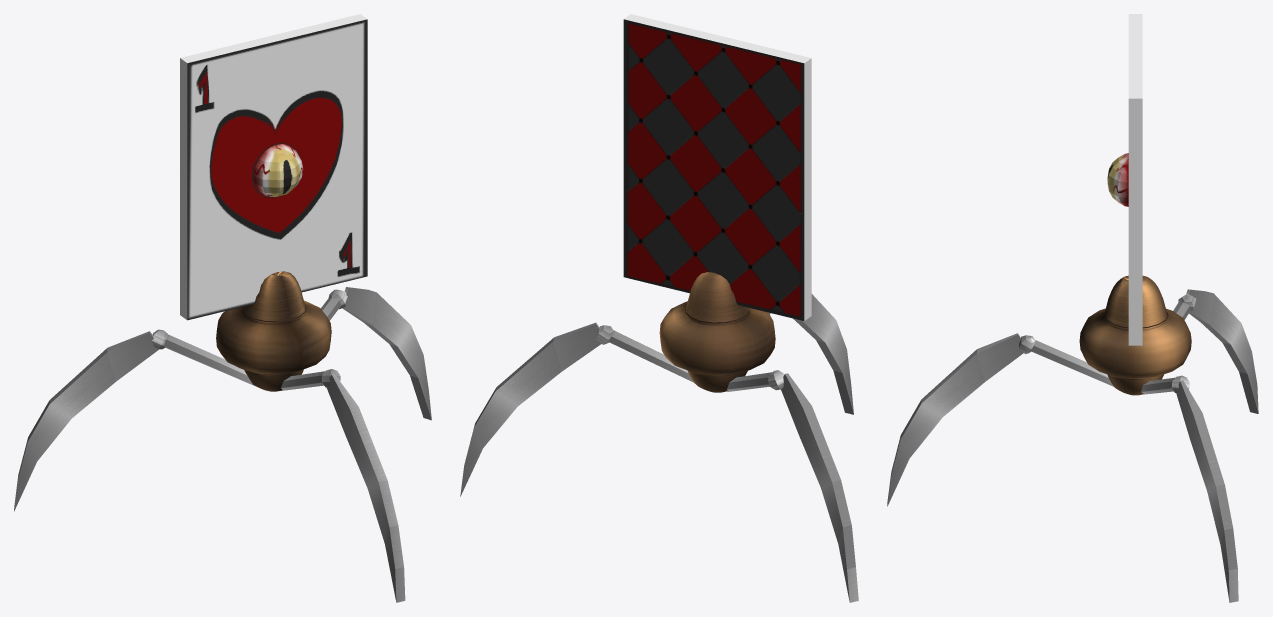
Rendered from Card01.fbx.
The picture shows the model from 3 angles, left to right: view 1: azimuth 30°, elevation 25°; view 2: azimuth 150°, elevation 25°; view 3: azimuth 270°, elevation 25°; orthographic projection. The views are drawn at different scales.
Visible parts, largest first — view 1: Cube, 點火器, Plane.002, Plane, Plane.001, Sphere.003, Cylinder.002, Cylinder; view 2: Cube, 點火器, Plane.001, Plane.002, Plane, Cylinder.001, Cylinder.002; view 3: 點火器, Cube, Plane, Plane.001, Plane.002, Cylinder, Sphere.003.
Boxes of the visible parts, x1,y1,x2,y2 form: Cube: (180, 14, 367, 320); 點火器: (216, 271, 331, 391); Plane.002: (14, 331, 159, 511); Plane: (327, 374, 405, 602); Plane.001: (342, 287, 431, 420); Sphere.003: (253, 144, 303, 196); Cylinder.002: (164, 335, 258, 387); Cylinder: (281, 371, 324, 390); Cube: (623, 14, 811, 321); 點火器: (659, 272, 775, 392); Plane.001: (460, 322, 601, 496); Plane.002: (781, 373, 858, 602); Plane: (793, 294, 853, 414); Cylinder.001: (608, 330, 693, 382); Cylinder.002: (726, 372, 771, 391); 點火器: (1079, 275, 1191, 395); Cube: (1128, 14, 1142, 345); Plane: (887, 333, 1023, 506); Plane.001: (1176, 380, 1238, 602); Plane.002: (1186, 289, 1258, 413); Cylinder: (1031, 340, 1113, 386); Sphere.003: (1107, 153, 1128, 206).
Size of the model in its own units: 463 by 509 by 381.
Materials: 3 (3 with a texture image).
